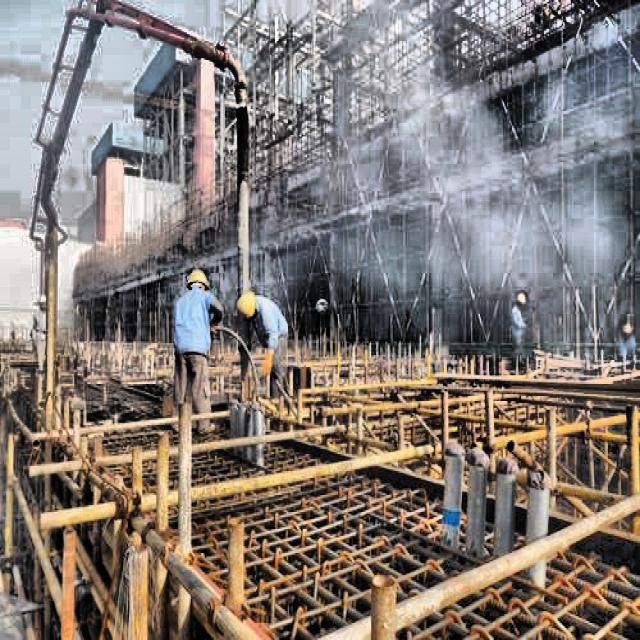helmet: (184, 264, 210, 297), (235, 287, 260, 321), (511, 290, 528, 312)
